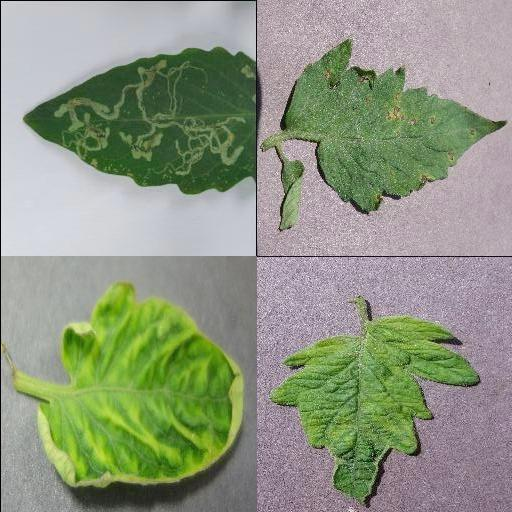Leaf Miner: (21, 44, 253, 196)
Mosaic Virus: (265, 315, 481, 507)
Septoria: (285, 37, 511, 211)
Yellow Leaf Curl Virus: (37, 283, 243, 489)
